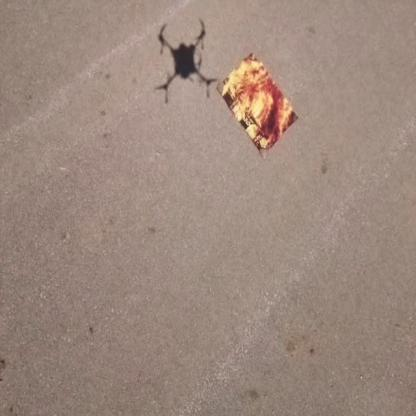fire-poster: (216, 51, 299, 158)
